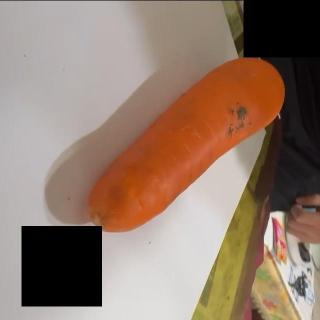carrot: (86, 56, 286, 232)
